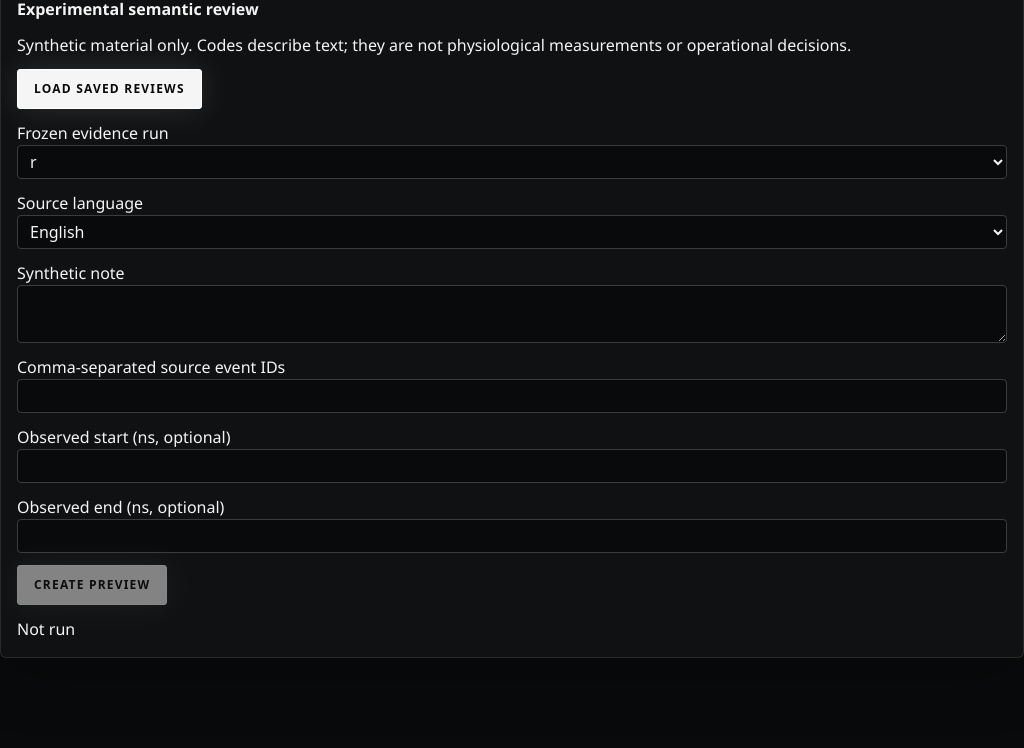
experimental semantic review › reopens stored attempts without disclosing answers and can revoke queued approval
The image size is (1024, 748).
Step 1. Click the button "Load saved reviews" → (109, 89), box 17,69 -> 202,109
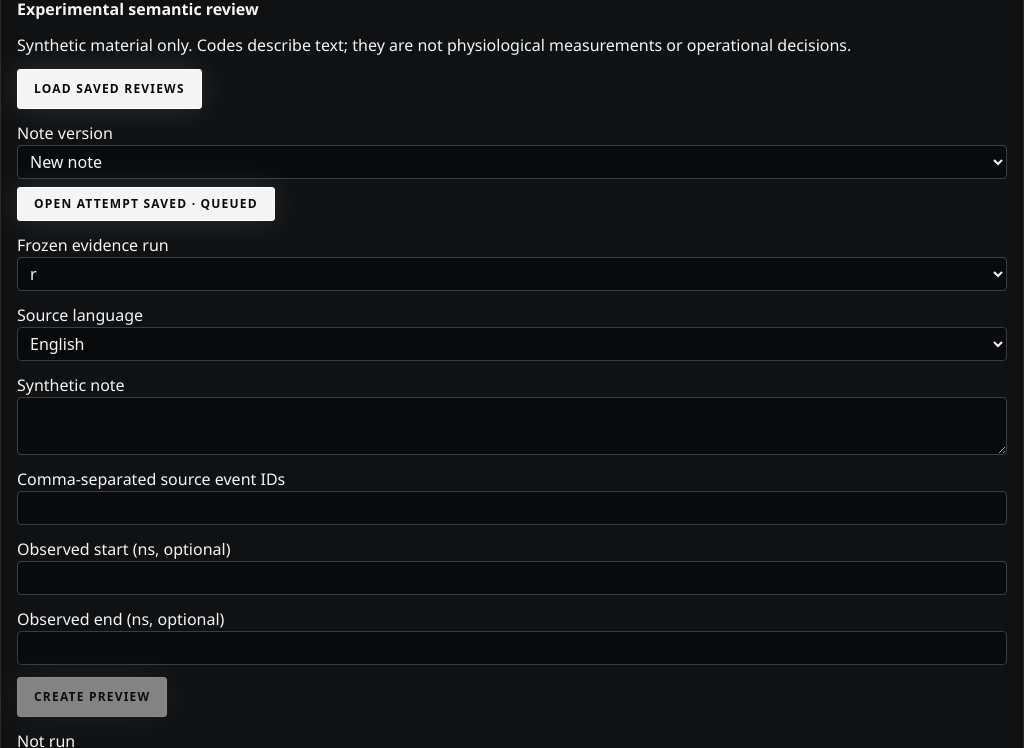
Step 2. Click the button "Open attempt saved · Queued" → (146, 204), box 17,187 -> 275,221
(page scrolled)
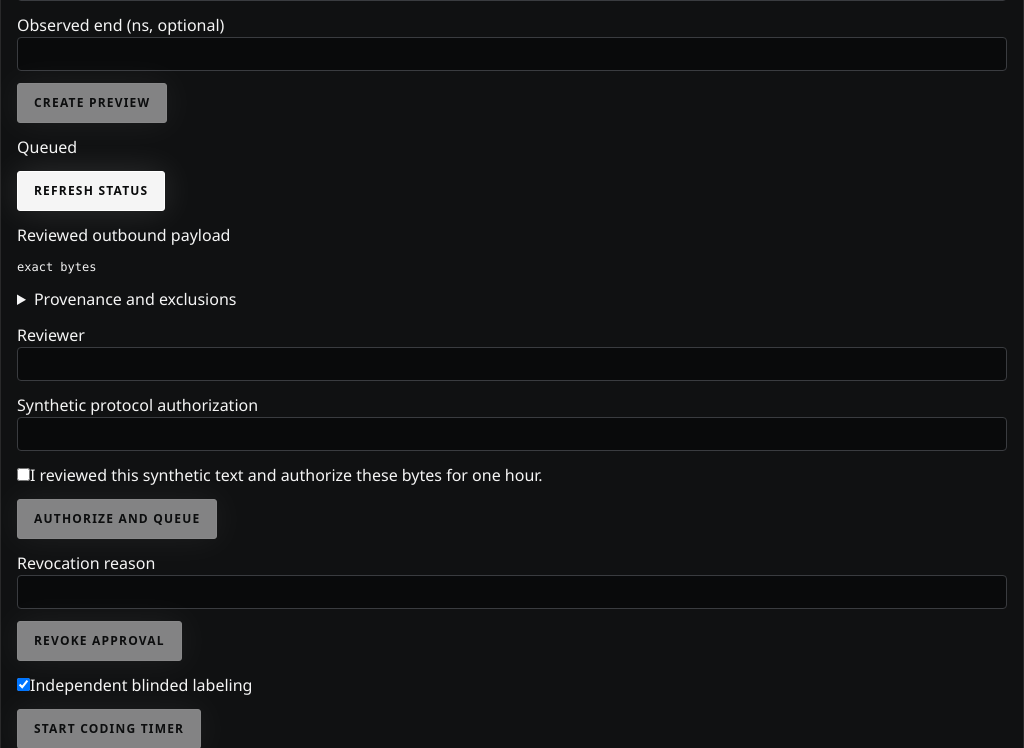
Expected: the text "exact bytes" is shown, 17,260 -> 96,274
Step 3. Type "rater" into the field labelled "Reviewer" → (512, 364), box 17,347 -> 1007,381
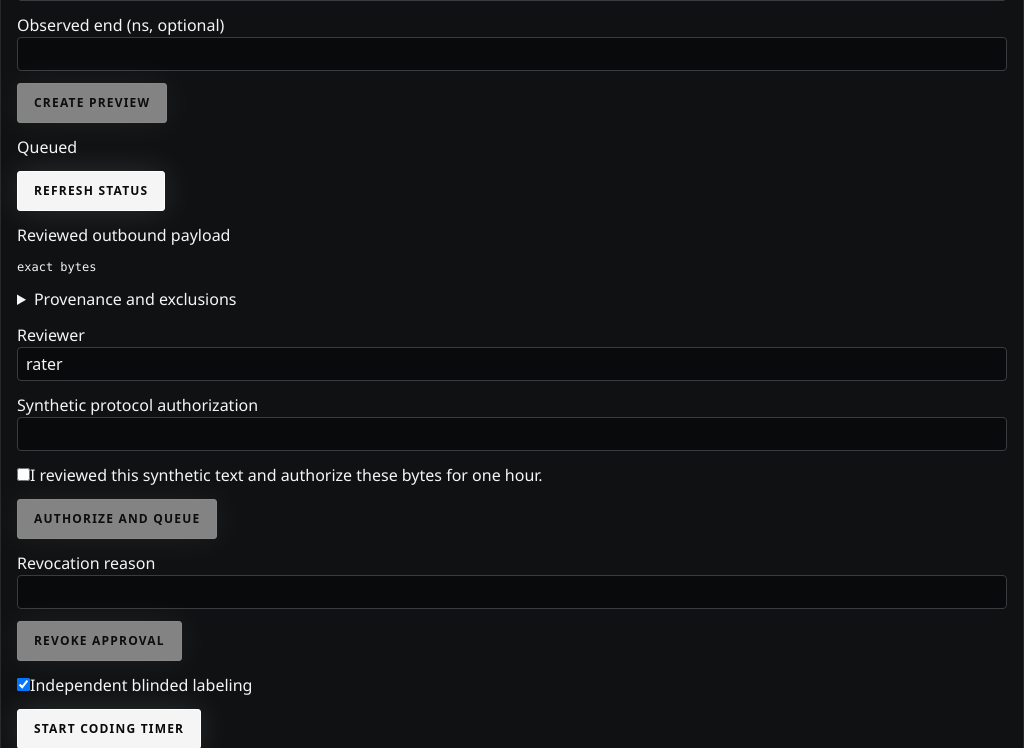
Step 4. Type "Withdraw" into the field labelled "Revocation reason" → (512, 592), box 17,575 -> 1007,609
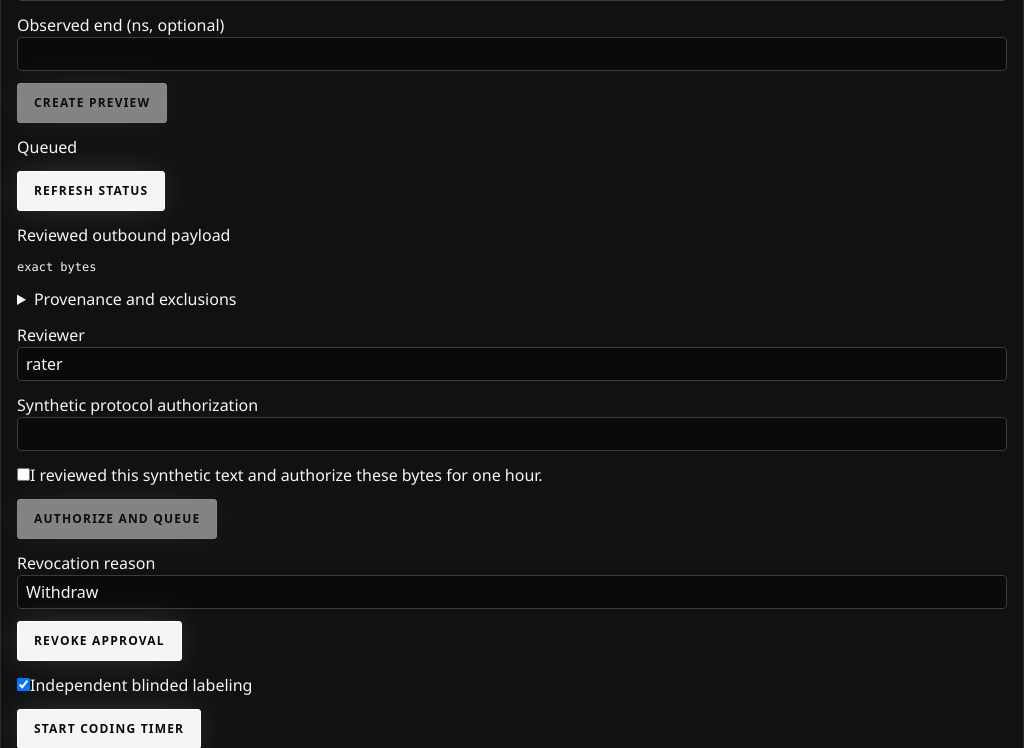
Step 5. Click the button "Revoke approval" → (99, 641), box 17,621 -> 182,661
(page scrolled)
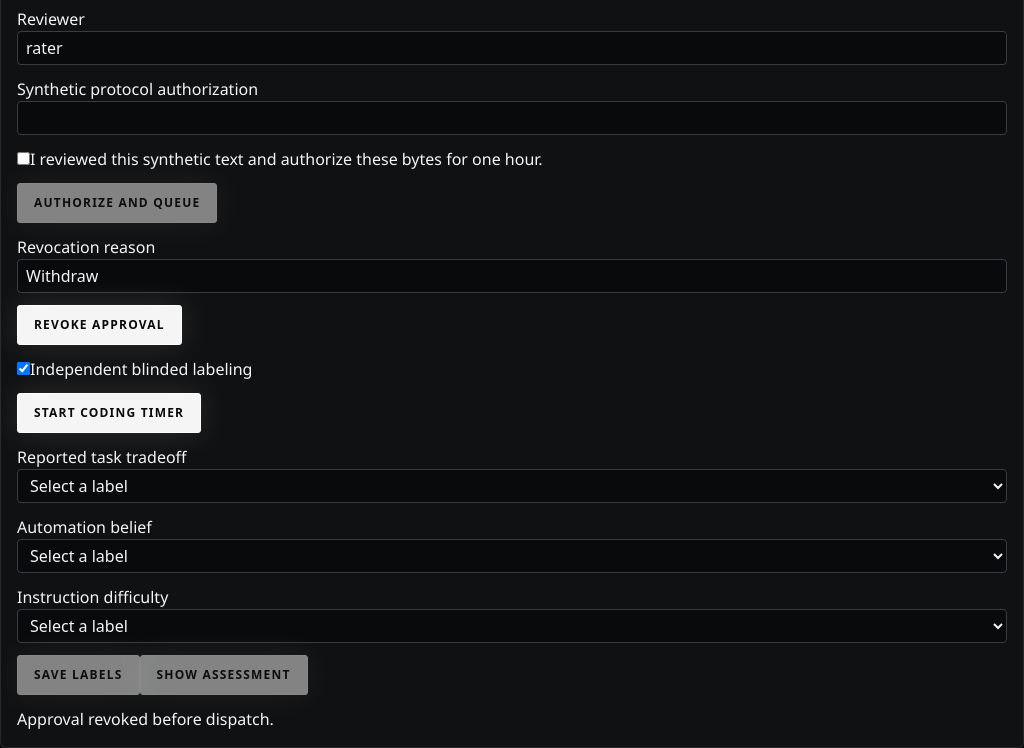
Expected: the text "Approval revoked before dispatch." is shown, 17,708 -> 274,730
